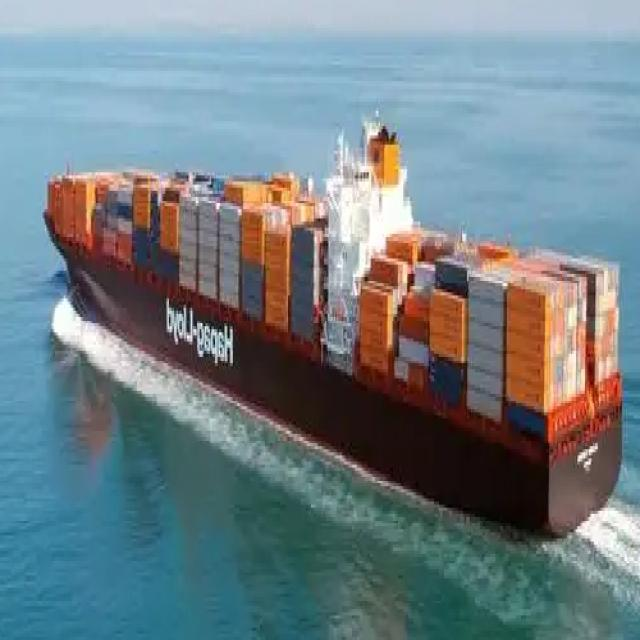cargoship: (38, 104, 626, 530)
